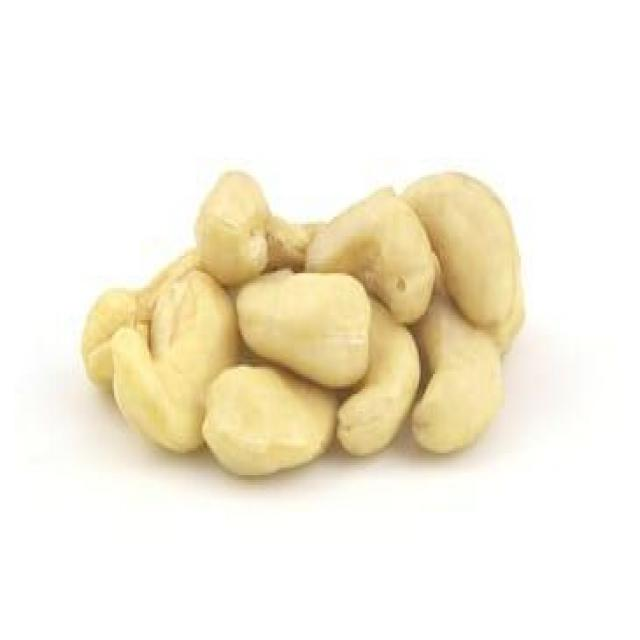Cashew: (193, 370, 356, 488), (444, 158, 543, 327), (247, 270, 374, 394), (351, 194, 438, 307), (427, 335, 504, 455), (160, 272, 226, 395)
